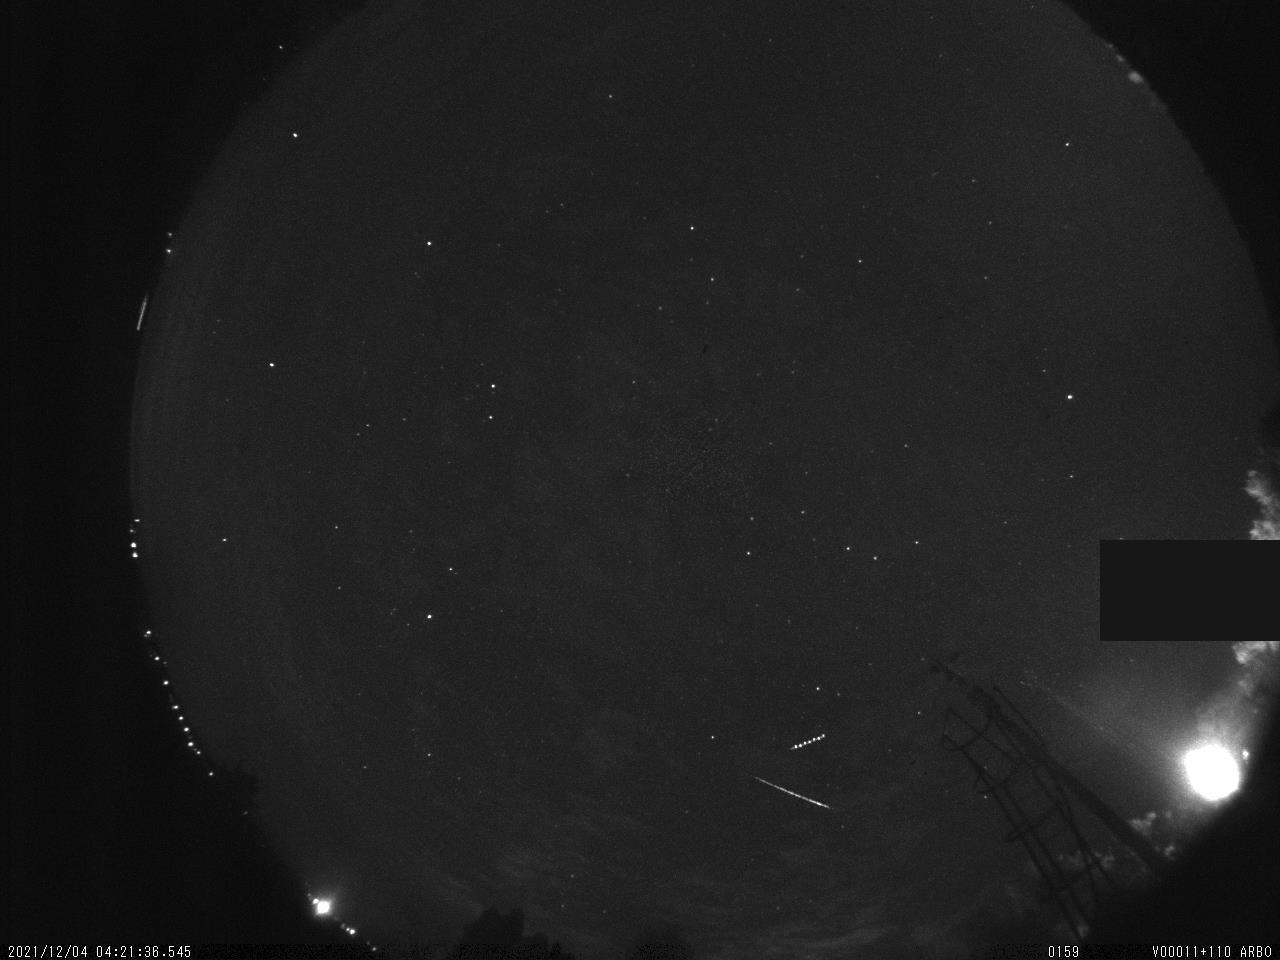meteor: (752, 773, 840, 825)
satelite: (785, 727, 833, 757)
